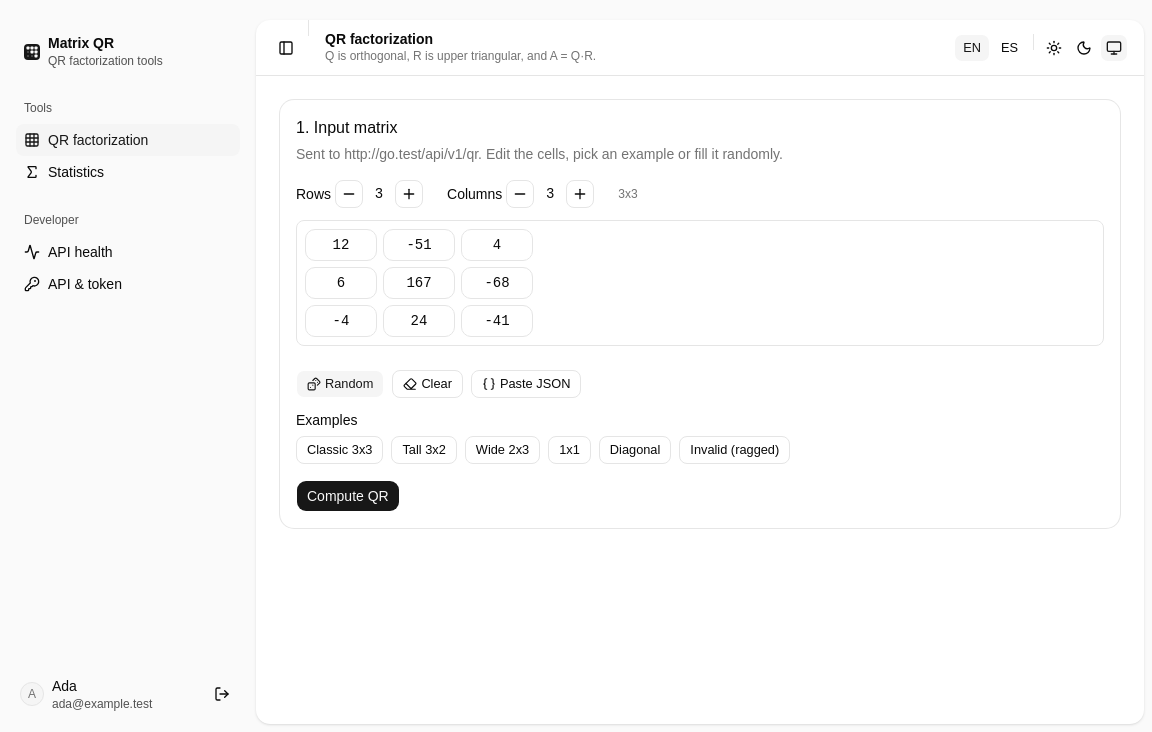
it: QR results survive the SDK loading flag › shows a friendly translated error, not a blank page, if rendering the results throws
Click the button "Compute QR" at coordinates (348, 496), box [296, 480, 400, 512]
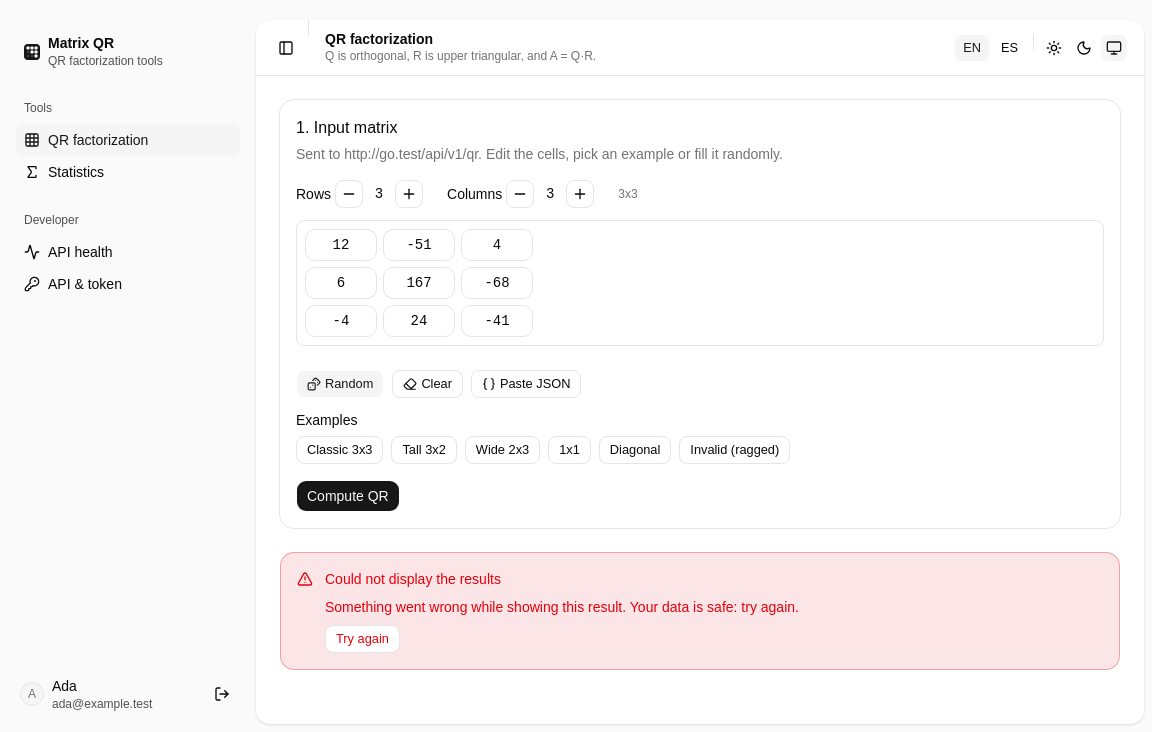
Check: the text "Could not display the results" is shown, box [325, 571, 501, 587]
